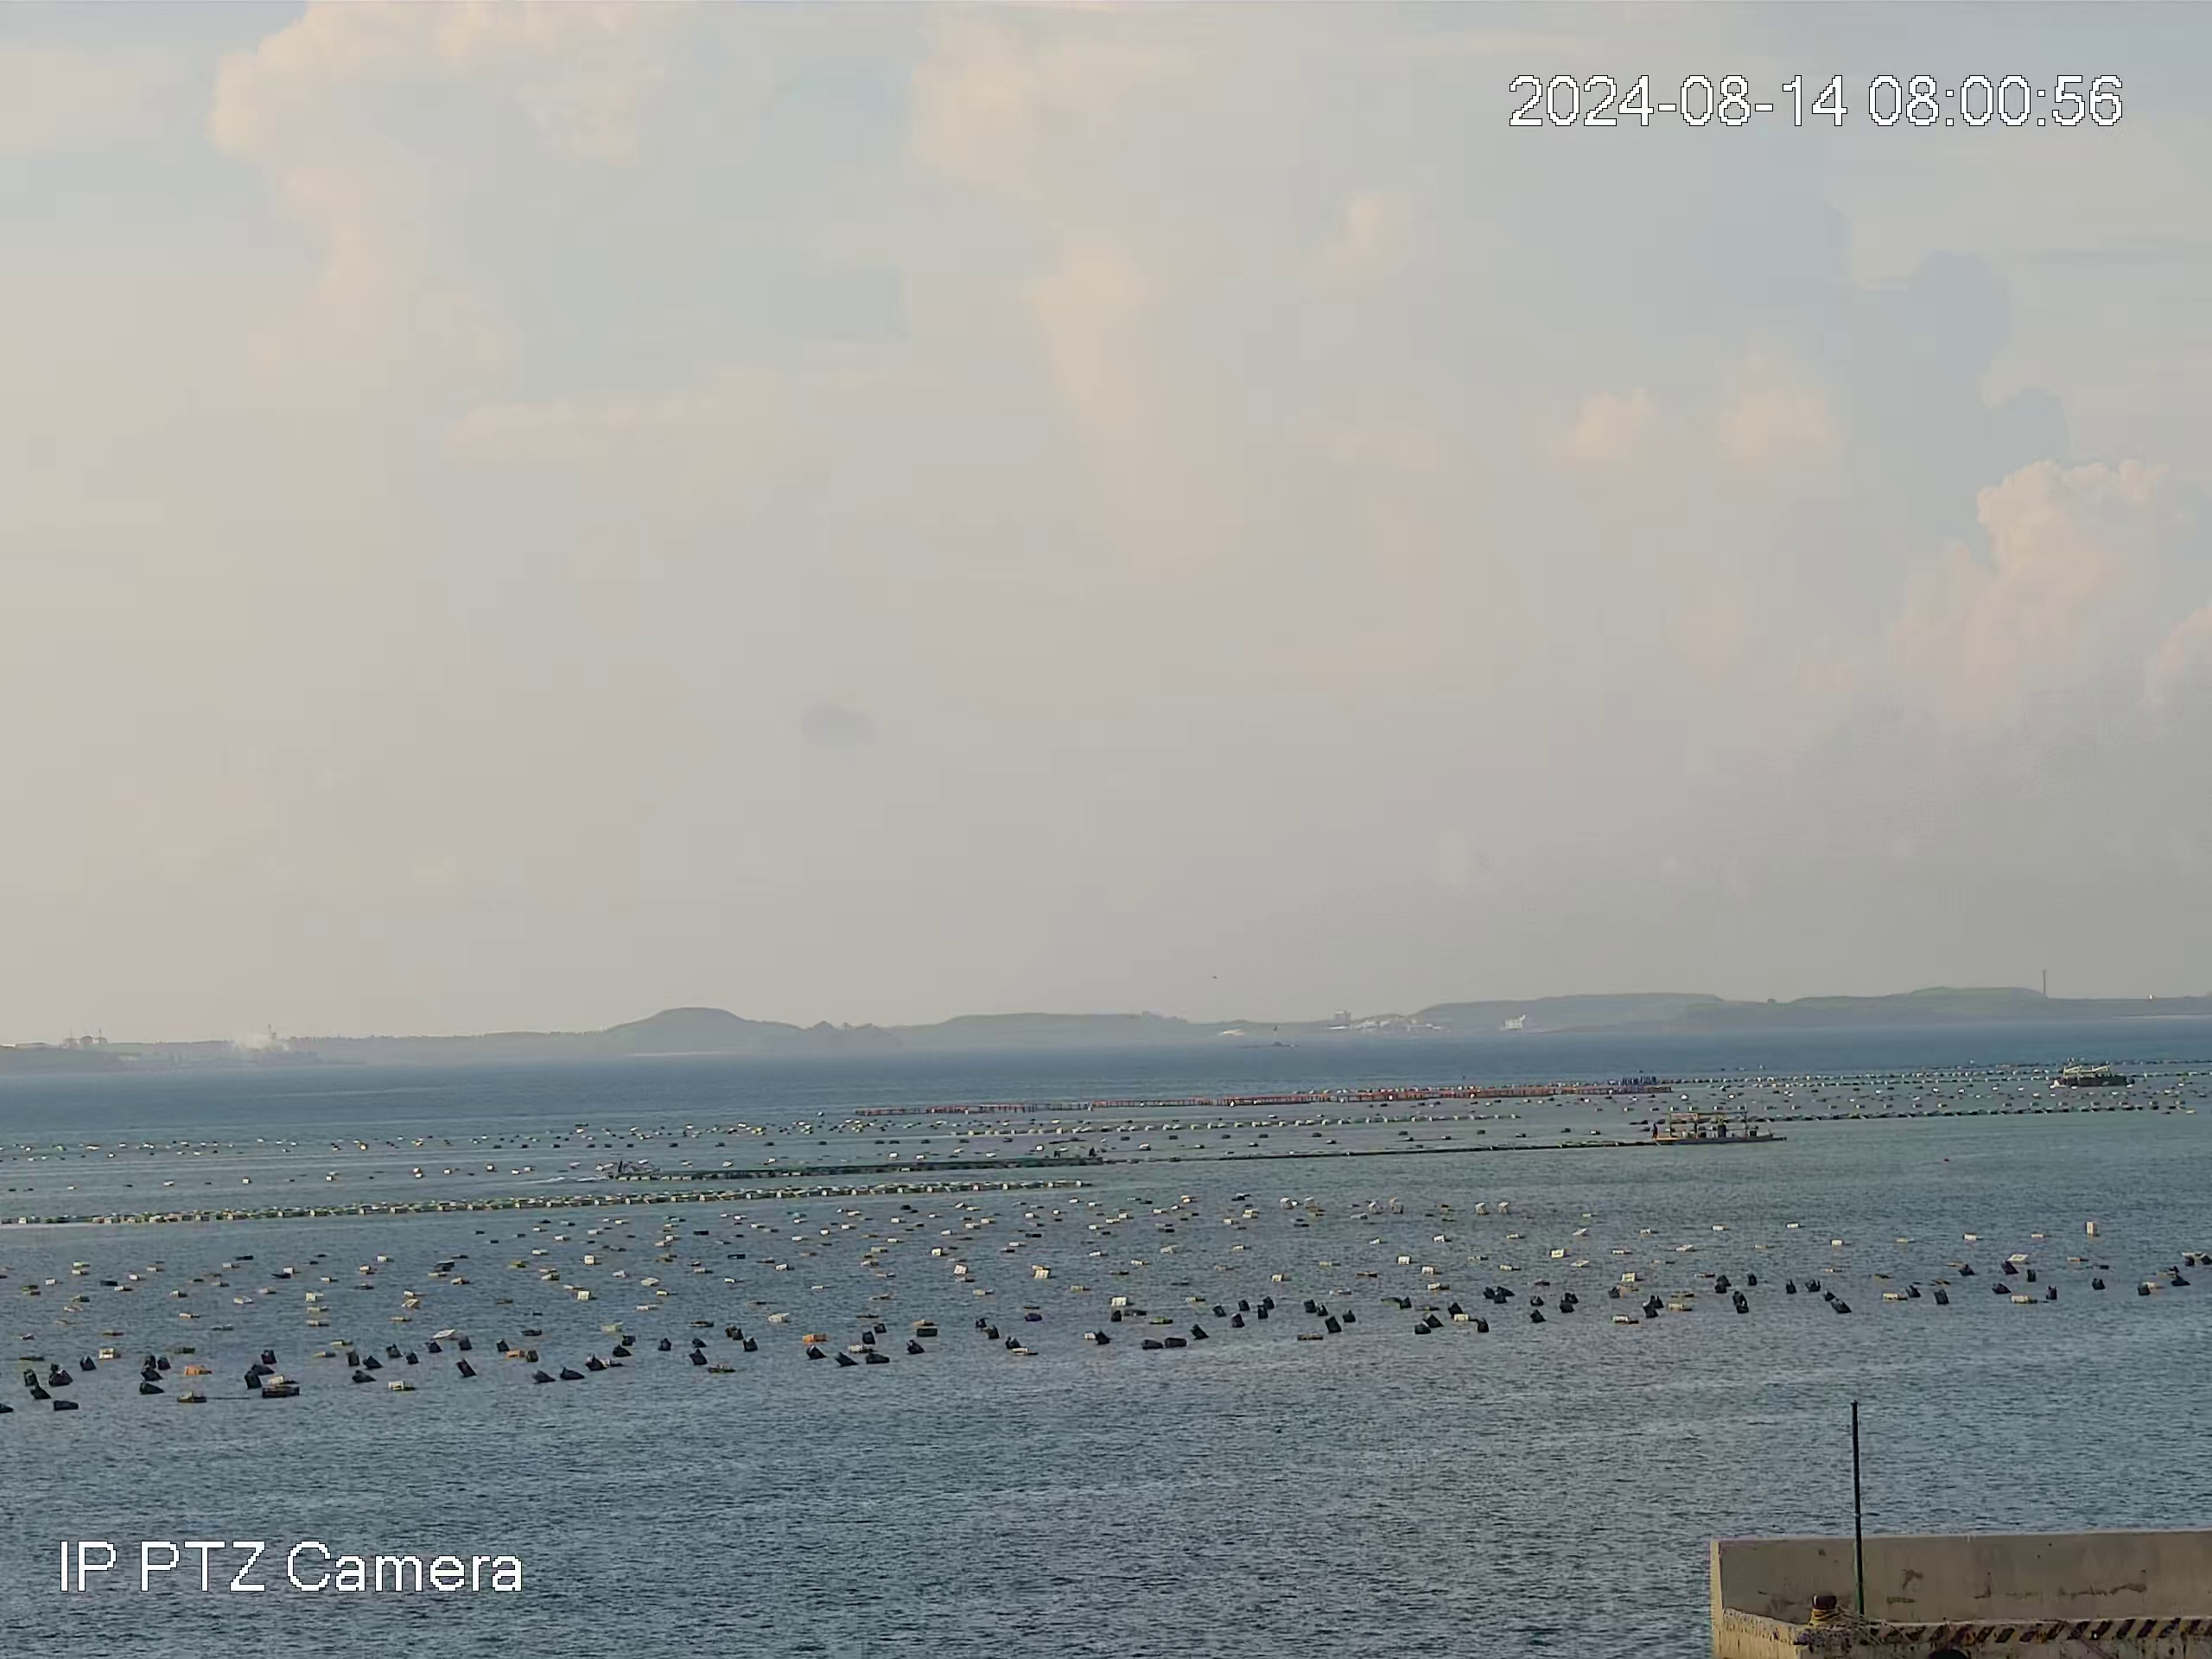boat: (1655, 1112, 1776, 1144), (596, 1151, 666, 1185), (2056, 1062, 2137, 1090)
